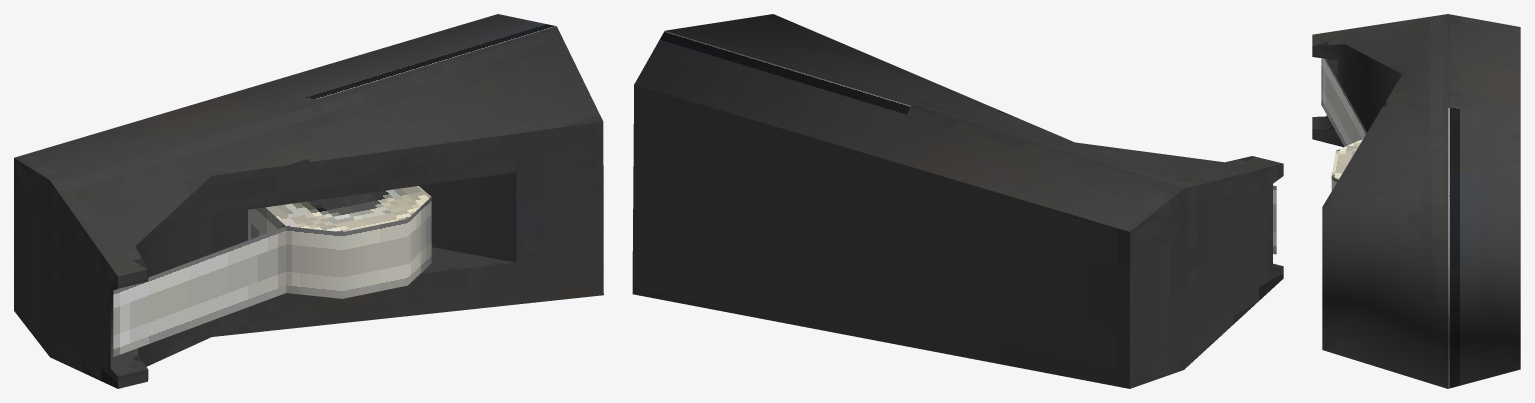
File: p_rus_tape_dispenser_LOD2.obj
The picture shows the model from 3 angles, left to right: view 1: azimuth 30°, elevation 25°; view 2: azimuth 150°, elevation 25°; view 3: azimuth 270°, elevation 25°; orthographic projection. The views are drawn at different scales.
Visible parts, largest first — view 1: mtl_p_rus_tape_dispenser; view 2: mtl_p_rus_tape_dispenser; view 3: mtl_p_rus_tape_dispenser.
Part boxes in pixels (left/top/right/bottom): mtl_p_rus_tape_dispenser: left=14, top=14, right=603, bottom=388; mtl_p_rus_tape_dispenser: left=632, top=14, right=1283, bottom=388; mtl_p_rus_tape_dispenser: left=1312, top=14, right=1520, bottom=388.
Size of the model in its own units: 18.39 by 8 by 7.72.
